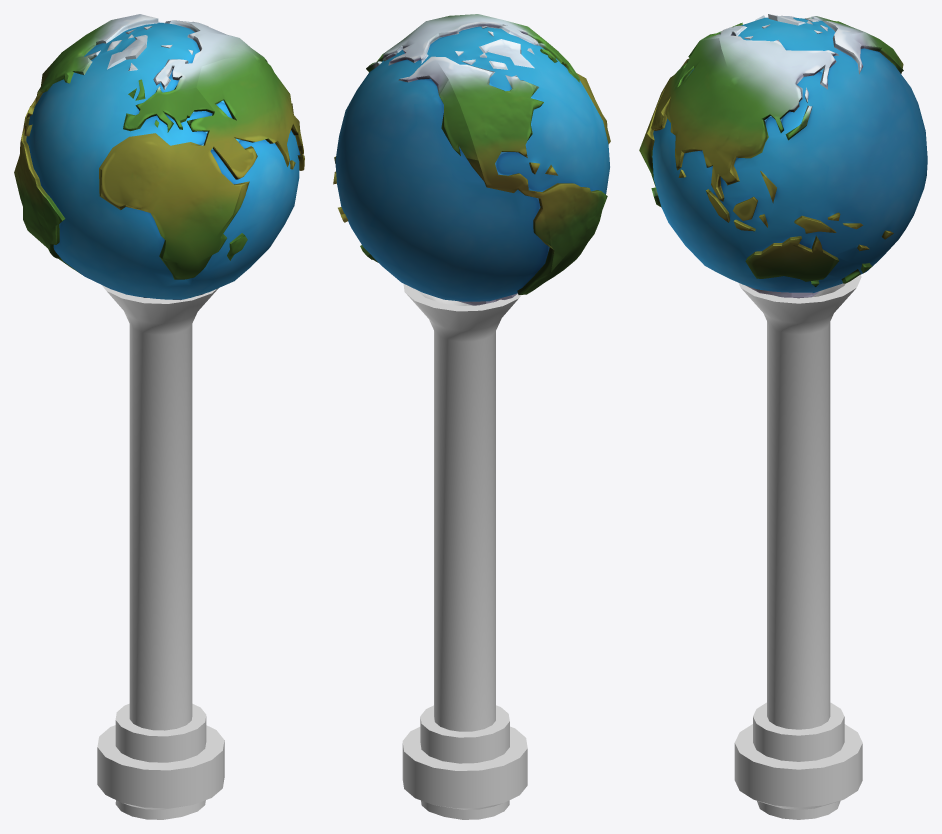
Rendered from StaffOfCreation_Low.fbx.
3 renders of one model, left to right at view 1: azimuth 30°, elevation 25°; view 2: azimuth 150°, elevation 25°; view 3: azimuth 270°, elevation 25°, orthographic.
Visible parts, largest first — view 1: StaffOfCreation; view 2: StaffOfCreation; view 3: StaffOfCreation.
Part boxes in pixels (x1,y1,x2,y2): StaffOfCreation: (14,14,304,819); StaffOfCreation: (333,14,610,819); StaffOfCreation: (639,14,927,819).
Size of the model in its own units: 6.14 by 18.4 by 6.24.
